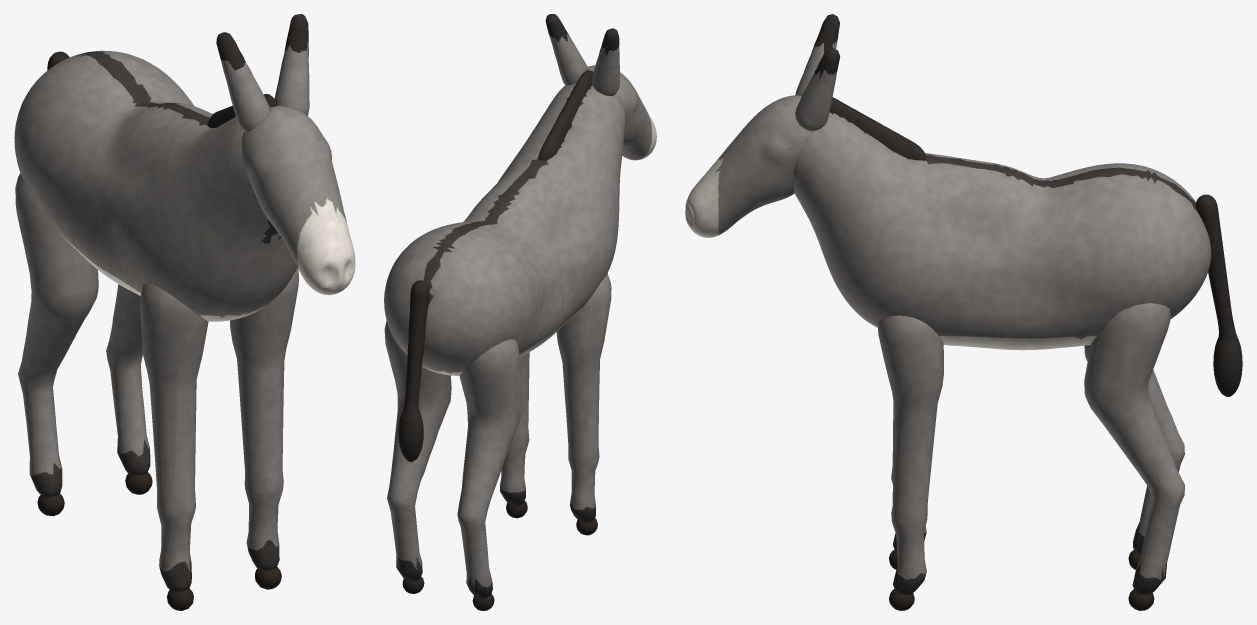
Rendered from animal_donkey.glb.
The picture shows the model from 3 angles, left to right: view 1: azimuth 30°, elevation 25°; view 2: azimuth 150°, elevation 25°; view 3: azimuth 270°, elevation 25°; orthographic projection. The views are drawn at different scales.
Visible parts, largest first — view 1: animal_donkey, head, leg0, leg2, leg1, leg3; view 2: animal_donkey, leg2, leg0, leg3, head, tail, leg1; view 3: animal_donkey, leg3, head, leg1, tail, leg2.
Boxes of the visible parts, x1,y1,x2,y2 form: animal_donkey: (14,50,297,321); head: (216,14,355,295); leg0: (140,283,208,610); leg2: (15,173,98,516); leg1: (230,267,298,589); leg3: (106,284,152,494); animal_donkey: (384,70,625,375); leg2: (457,339,521,610); leg0: (556,273,611,535); leg3: (384,321,451,593); head: (545,14,656,160); tail: (398,280,429,462); leg1: (500,352,529,518); animal_donkey: (793,97,1211,350); leg3: (1084,302,1184,610); head: (685,14,840,237); leg1: (877,315,943,610); tail: (1195,194,1242,396); leg2: (1084,345,1184,569).
Bounding box in the file's own units: 0.185 × 0.6726 × 0.6085.
1 material, 1 textured.
